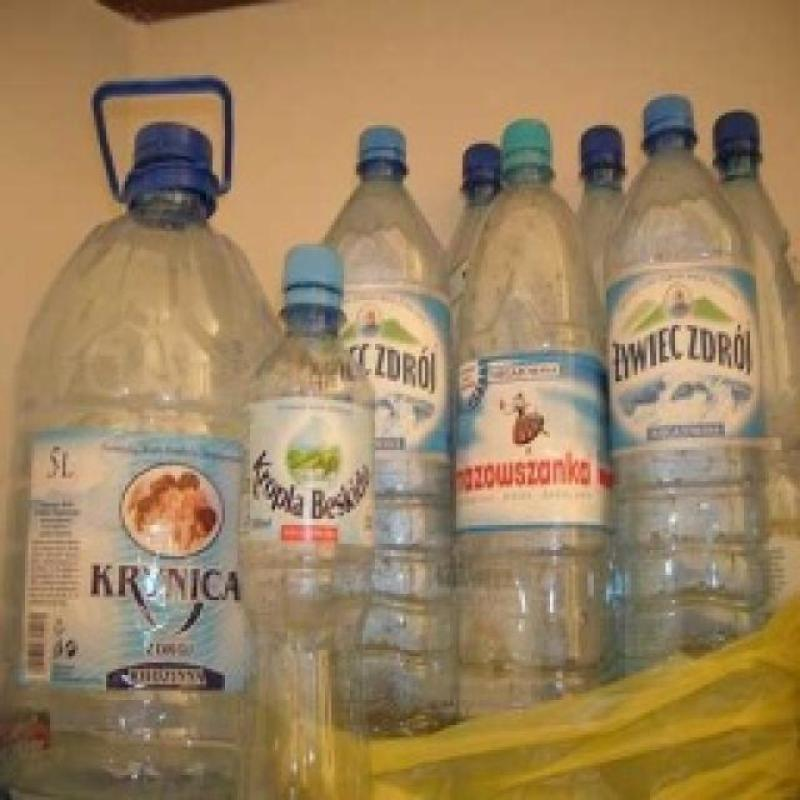botella: (456, 119, 622, 719), (603, 97, 769, 684), (318, 125, 460, 737), (244, 246, 375, 800), (709, 110, 800, 601), (575, 125, 623, 269), (447, 142, 501, 270)
